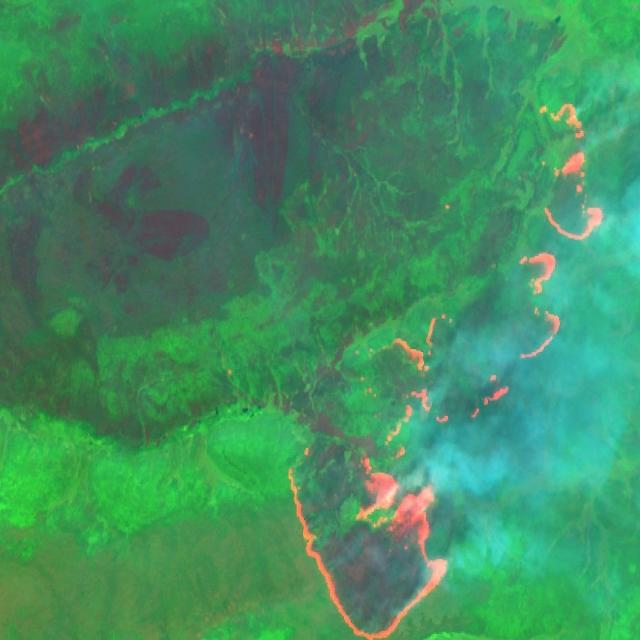fire: (283, 98, 609, 640)
